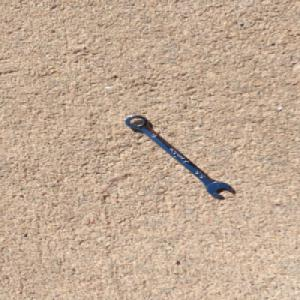Wrench: (122, 112, 236, 199)
